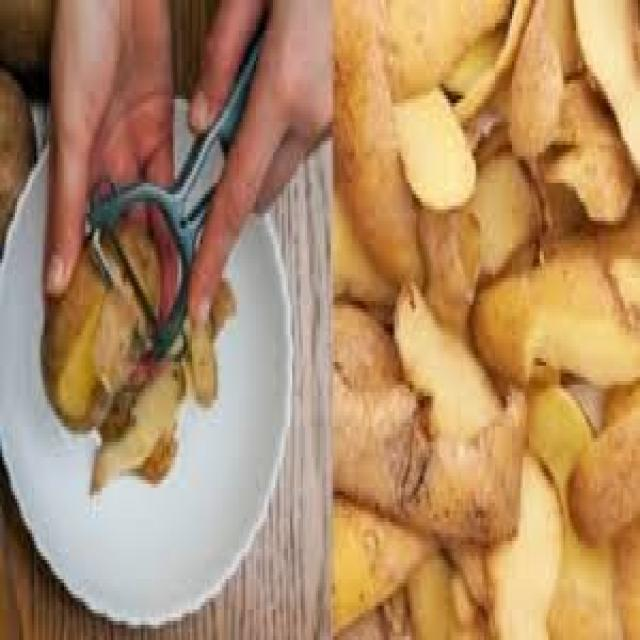Organik: (335, 0, 640, 640), (23, 145, 266, 536)
